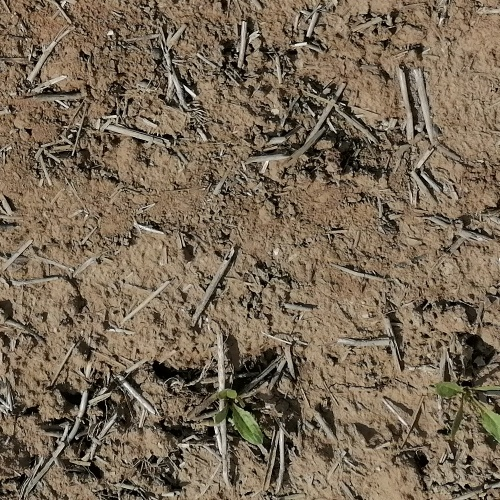beet: (435, 380, 500, 440), (210, 386, 264, 448)
